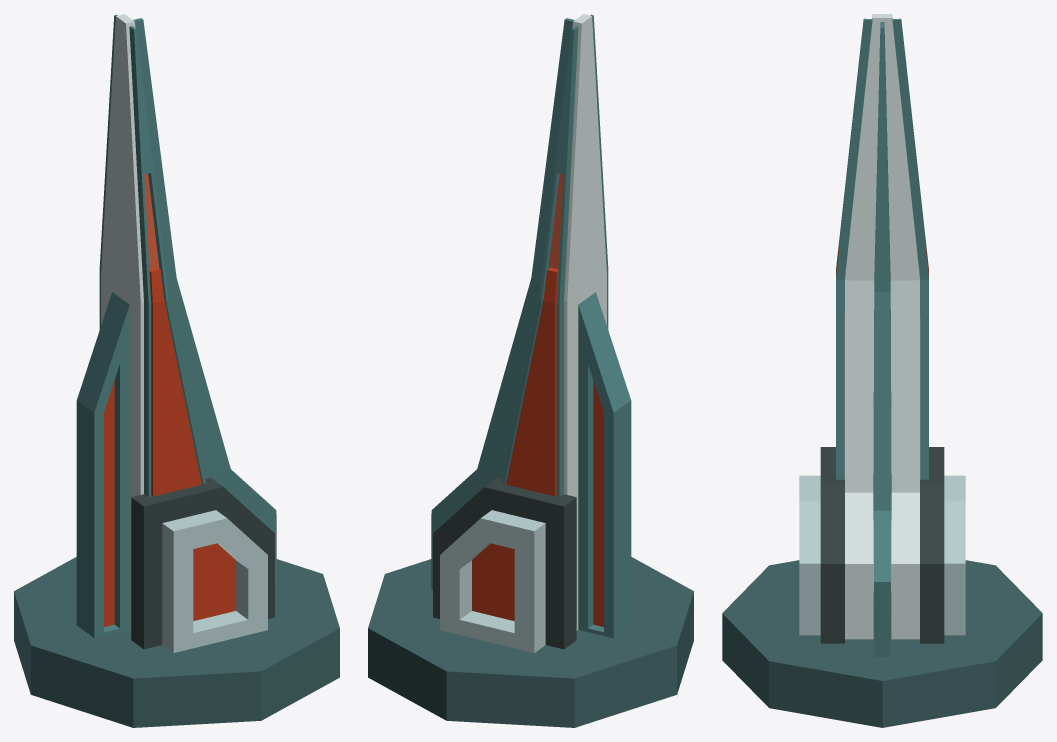
Rendered from TP_Sci-fi04.fbx.
3 views of the same model, side by side, from view 1: azimuth 30°, elevation 25°; view 2: azimuth 150°, elevation 25°; view 3: azimuth 270°, elevation 25° (orthographic). The views are drawn at different scales.
Visible parts, largest first — view 1: TP_Sci_fi04; view 2: TP_Sci_fi04; view 3: TP_Sci_fi04.
Boxes of the visible parts, x1=… form: TP_Sci_fi04: x1=14, y1=14, x2=339, y2=727; TP_Sci_fi04: x1=368, y1=14, x2=693, y2=727; TP_Sci_fi04: x1=722, y1=14, x2=1042, y2=727.
Bounding box in the file's own units: 174 × 370 × 174.
1 material, 1 textured.
